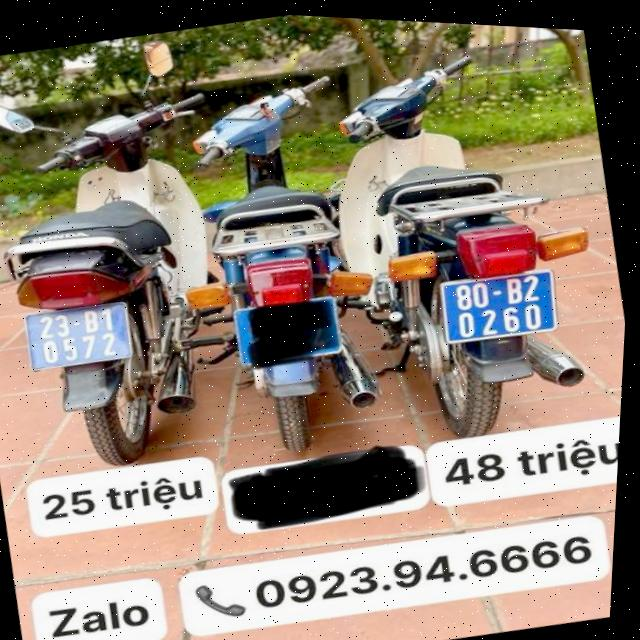motorcycle: (310, 17, 640, 471), (0, 23, 278, 502), (160, 34, 404, 473)
plate: (428, 258, 568, 356), (10, 291, 143, 384)
